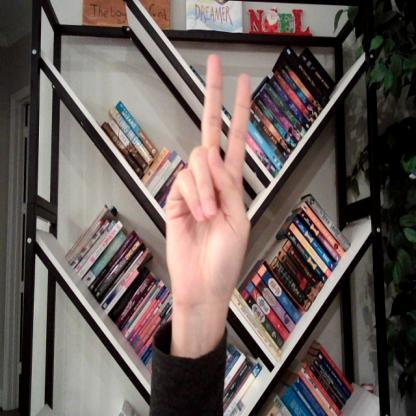two: (162, 54, 256, 304)
